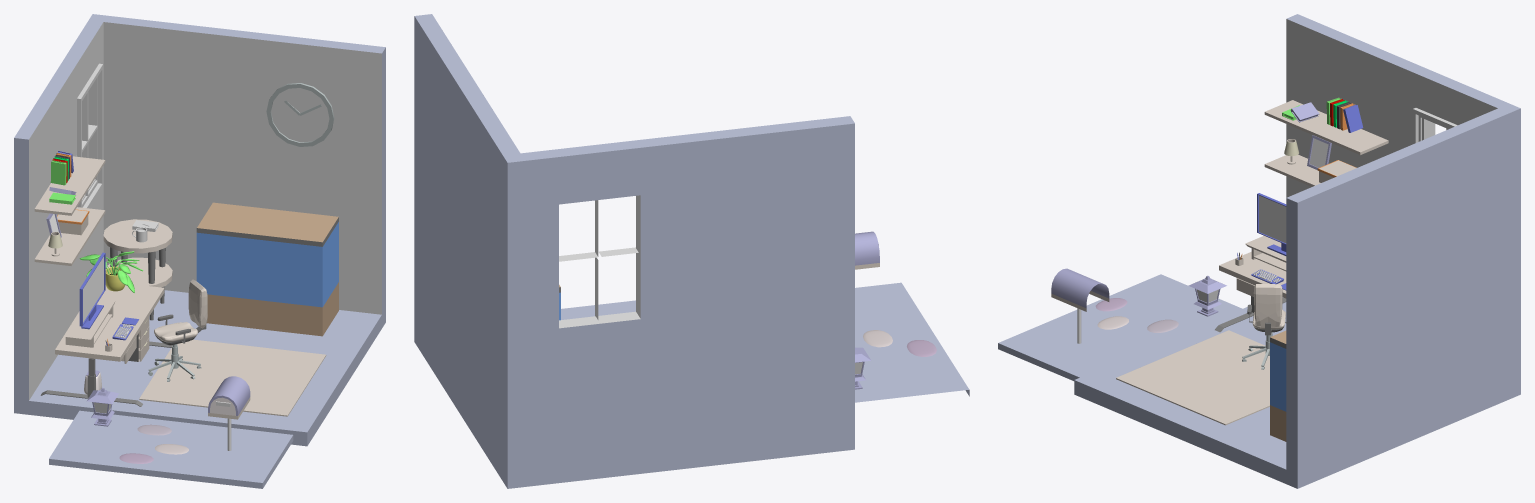
File: officev3.glb
The picture shows the model from 3 angles, left to right: view 1: azimuth 30°, elevation 25°; view 2: azimuth 150°, elevation 25°; view 3: azimuth 270°, elevation 25°; orthographic projection. The views are drawn at different scales.
Visible parts, largest first — view 1: Walls, Walls.001, tanky, Desk Top.002, Cube.023, Cylinder.011, Desk Top, Plane, Shelf, Cylinder.008, Shelf Itself, Cylinder.012 (+10 smaller); view 2: Walls, Walls.001, Plane, Cylinder.012; view 3: Walls, Walls.001, Desk Top.002, Shelf, Cylinder.012, Cube.068, Desk Top, tanky, Screen, Shelf Itself, Monitor Shelf, Cube.023 (+3 smaller).
Part boxes in pixels (x1,y1,x2,y2): Walls: (14, 14, 385, 446); Walls.001: (49, 410, 293, 488); tanky: (196, 222, 338, 307); Desk Top.002: (139, 339, 326, 416); Cube.023: (196, 202, 338, 336); Cylinder.011: (266, 83, 334, 146); Desk Top: (55, 284, 164, 361); Plane: (77, 63, 103, 208); Shelf: (34, 156, 105, 215); Cylinder.008: (103, 219, 172, 253); Shelf Itself: (34, 207, 105, 265); Cylinder.012: (208, 376, 250, 419); Walls: (414, 14, 854, 488); Walls.001: (855, 282, 969, 402); Plane: (559, 200, 638, 319); Cylinder.012: (855, 231, 879, 269); Walls: (1074, 14, 1520, 488); Walls.001: (998, 274, 1242, 380); Desk Top.002: (1116, 330, 1269, 425); Shelf: (1264, 100, 1388, 154); Cylinder.012: (1051, 268, 1109, 311); Cube.068: (1253, 284, 1282, 327); Desk Top: (1219, 251, 1286, 298); tanky: (1270, 342, 1286, 411); Screen: (1259, 195, 1286, 243); Shelf Itself: (1264, 154, 1320, 186); Monitor Shelf: (1245, 235, 1286, 271); Cube.023: (1270, 330, 1286, 441).
Bounding box in the file's own units: 29.9 × 19.52 × 32.32.
